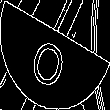O_NE: (33, 22, 77, 88)
